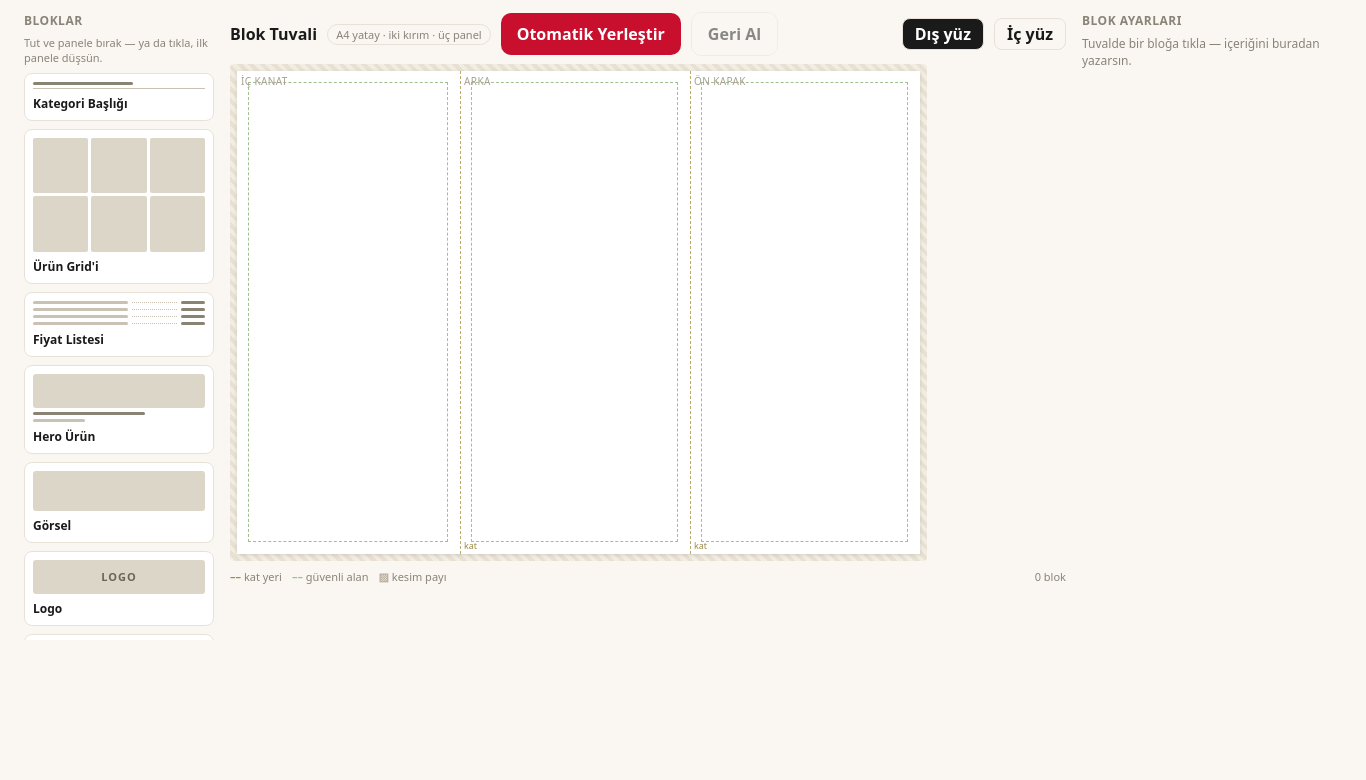
Scenario: Geri Al › geri aldıktan sonra tekrar KİLİTLENİR
Click the text "Logo": (48, 608) [33, 600, 62, 617]
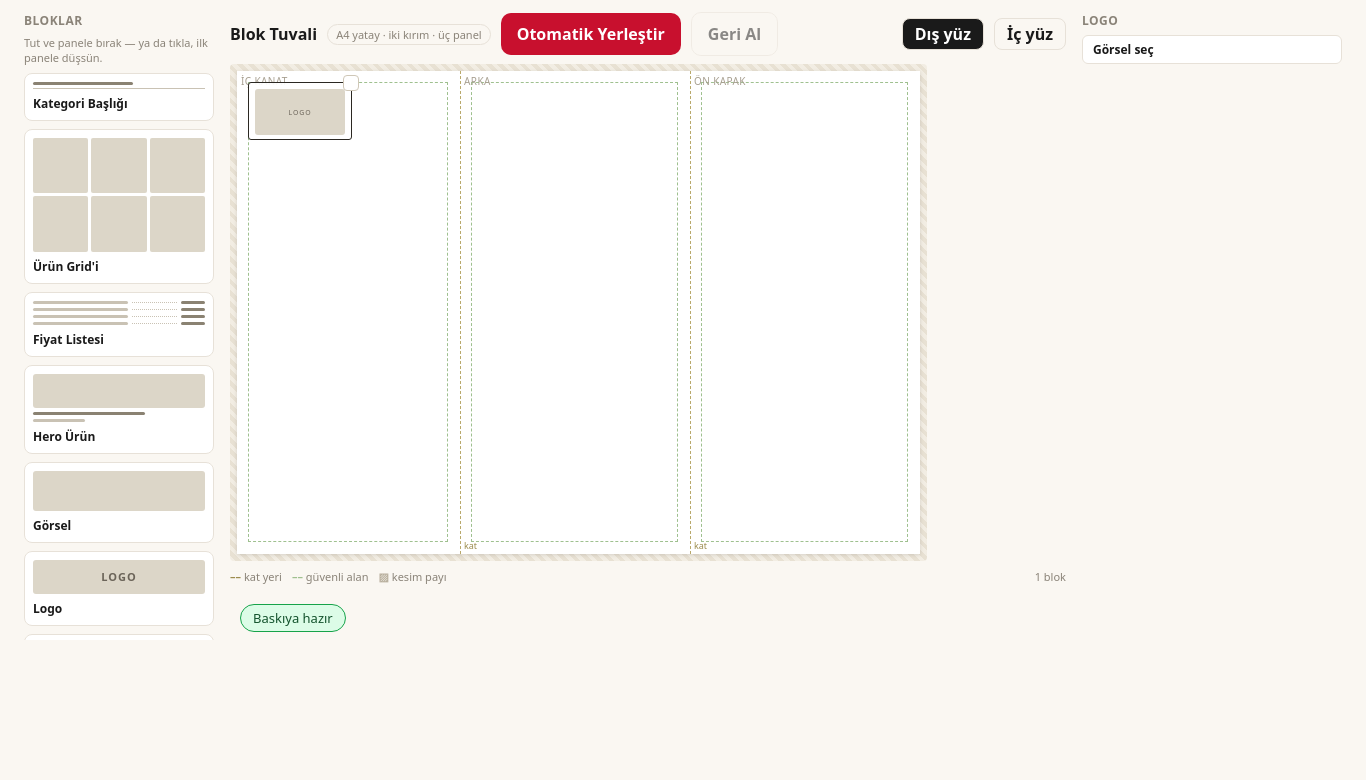
Click the button "Otomatik Yerleştir": (591, 34) [501, 13, 681, 55]
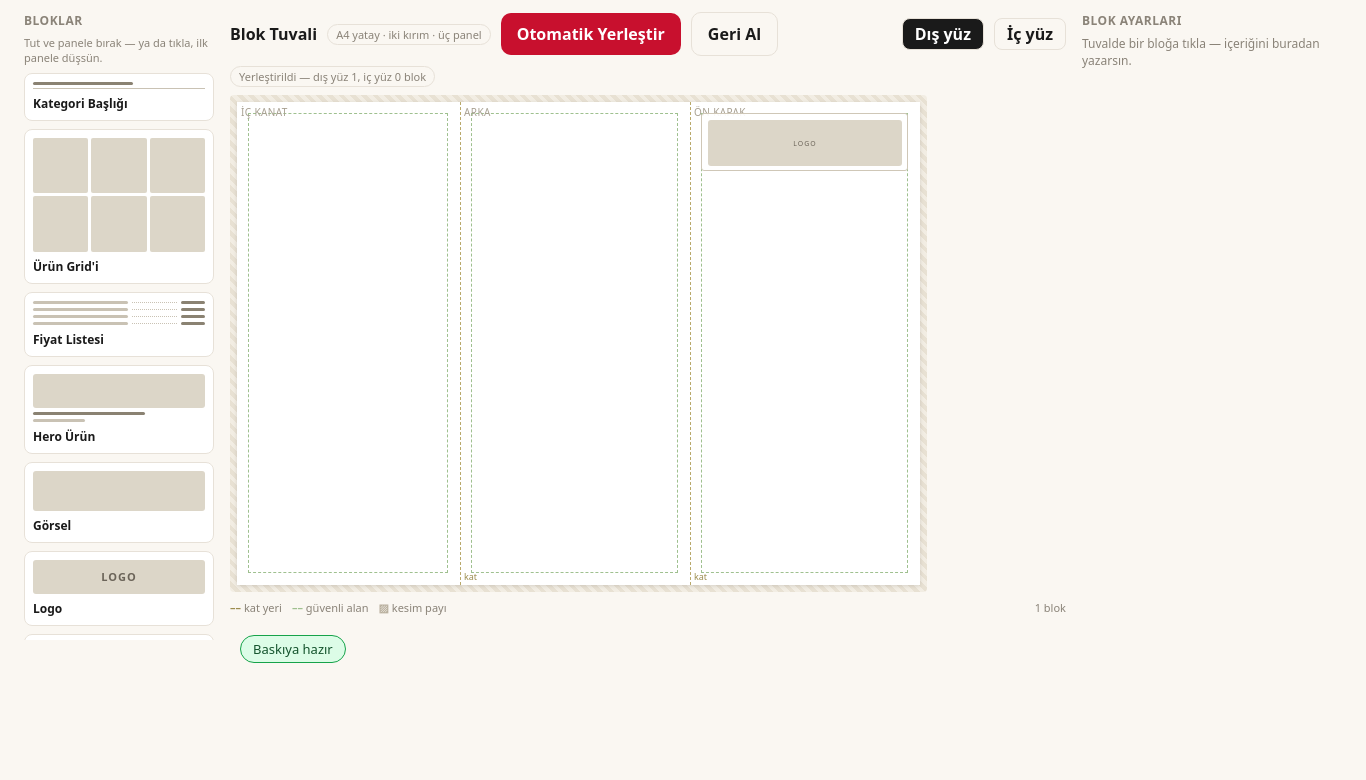
Click the button "Geri Al": (734, 34) [691, 12, 778, 56]
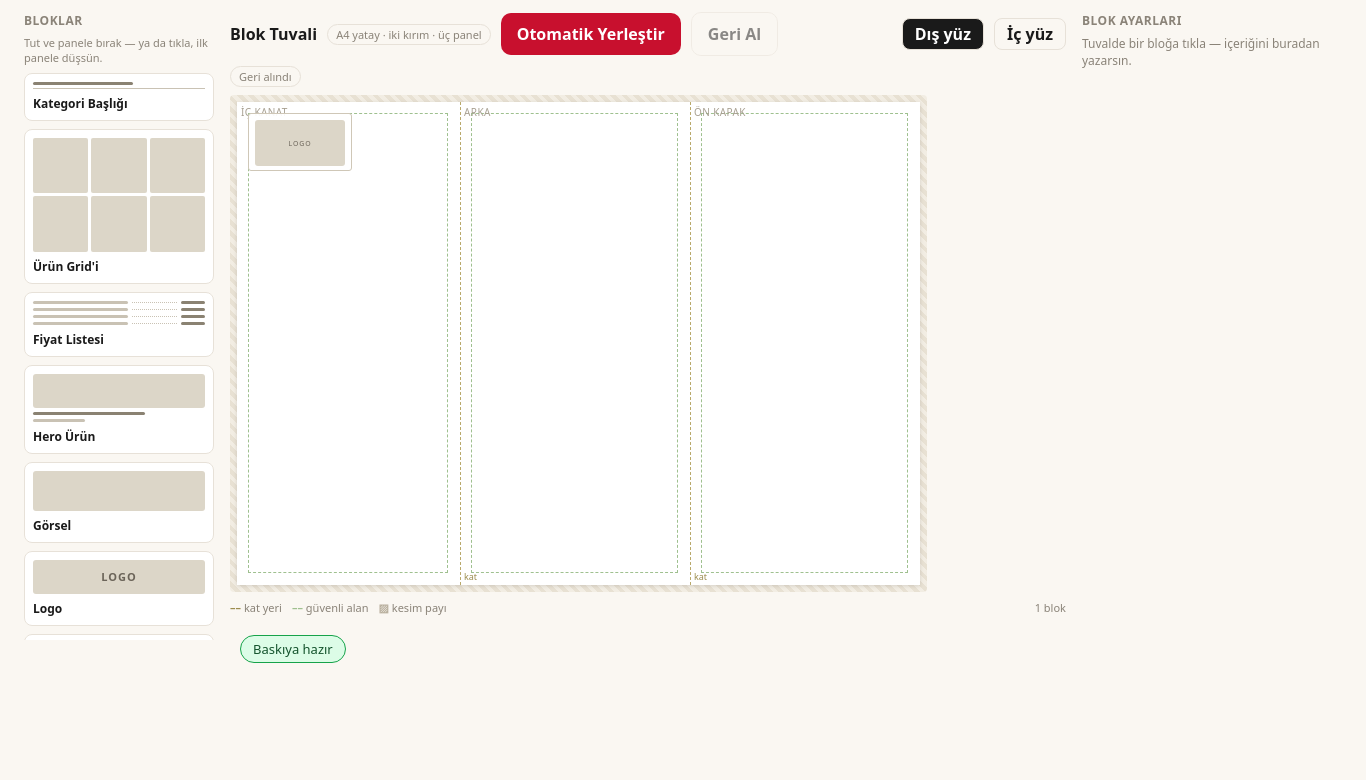
Check: the button "Geri Al" is disabled, box [691, 12, 778, 56]
